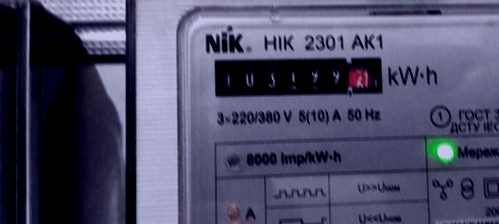0: (241, 70, 252, 89), (218, 71, 227, 89)
1: (285, 67, 294, 85)
3: (263, 70, 273, 90)
6: (351, 75, 361, 89)
9: (306, 66, 316, 86), (328, 68, 338, 86)
screen: (204, 50, 386, 104)
